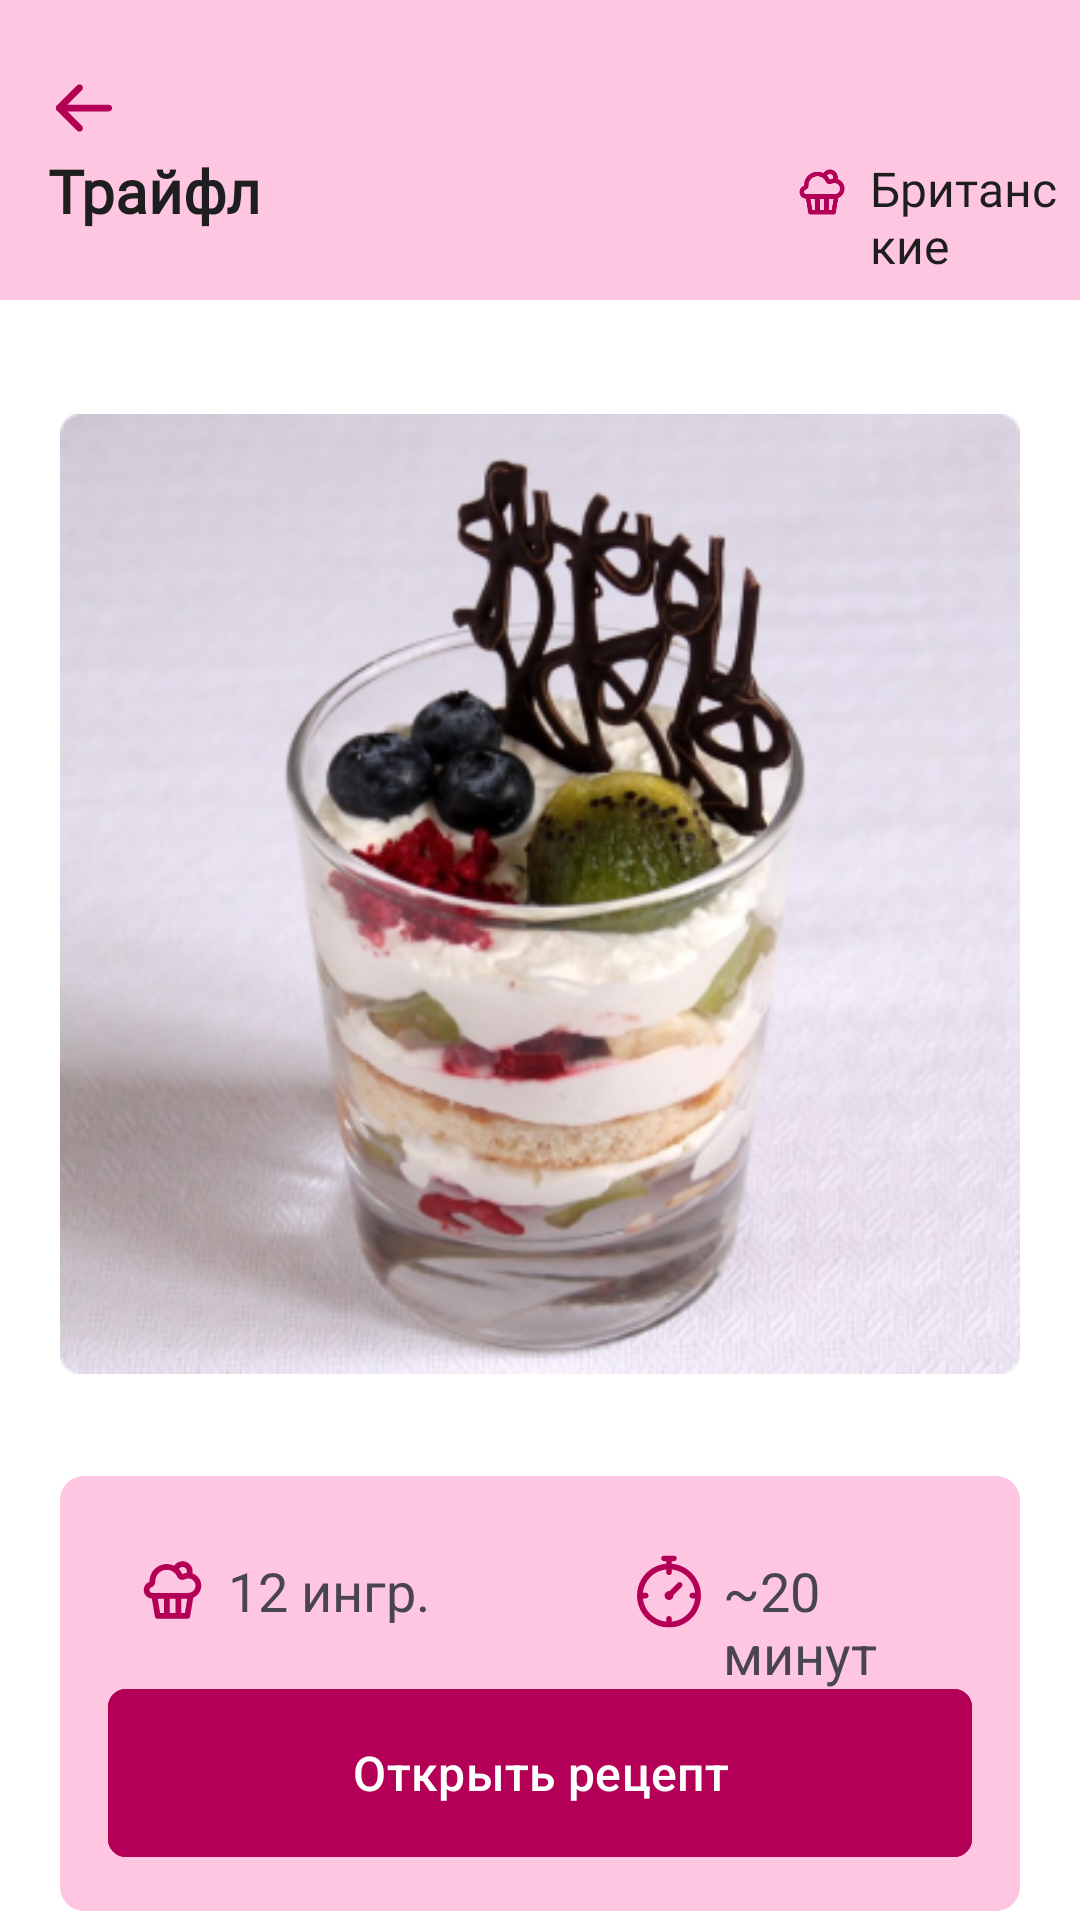

Named icons in this screenshot (1080 x 1920) and their bounding boxes, (x1, y1, x2, y2):
second back: (56, 84, 112, 132)
timer: (637, 1555, 701, 1628)
